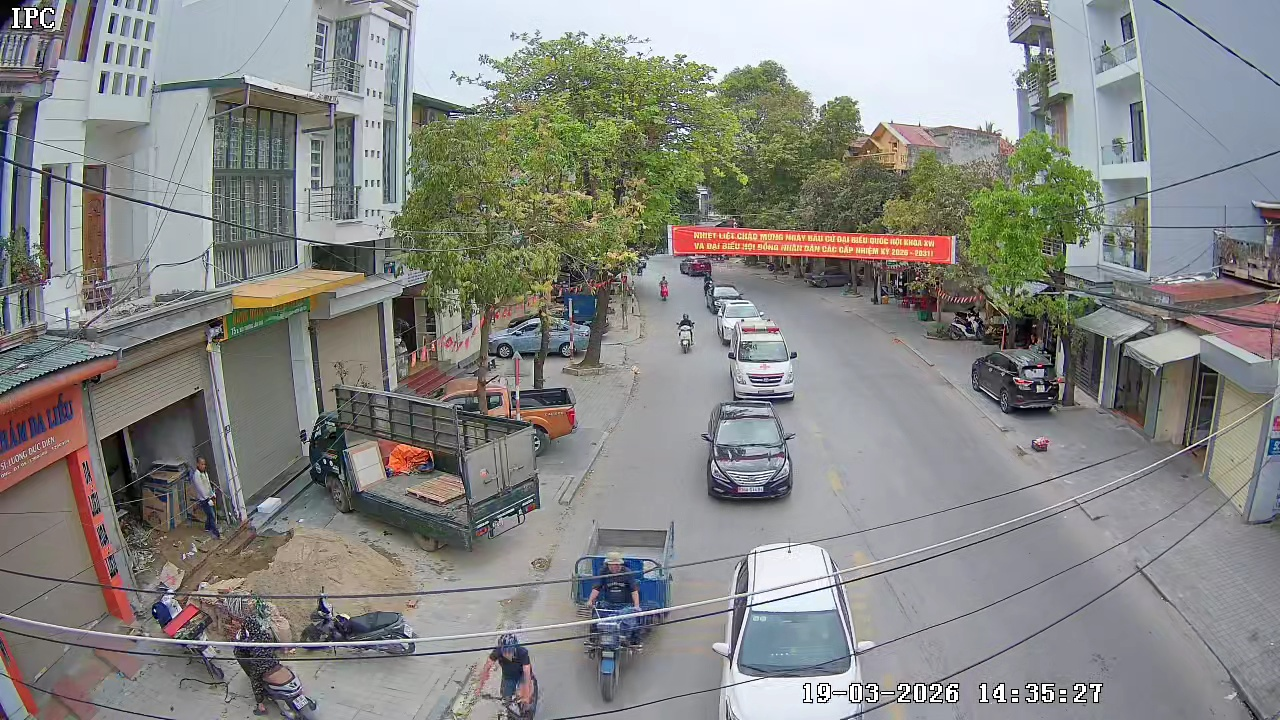car: (712, 541, 873, 719), (563, 509, 682, 712), (700, 399, 797, 502), (970, 348, 1059, 414), (728, 331, 800, 401), (510, 384, 577, 451), (716, 297, 770, 346)
motorbike: (297, 411, 361, 513), (484, 630, 543, 719), (675, 313, 695, 355), (656, 273, 669, 303)
